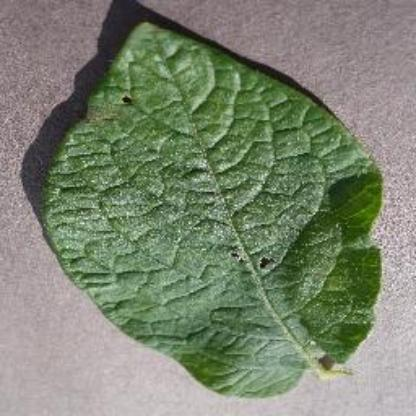Healthy-plant: (29, 14, 394, 400)
